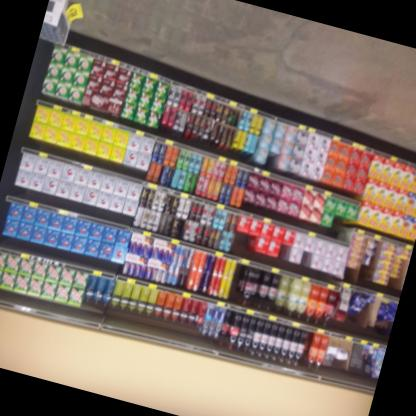empty_space: (230, 232, 252, 258), (228, 264, 243, 300), (329, 216, 343, 237)
